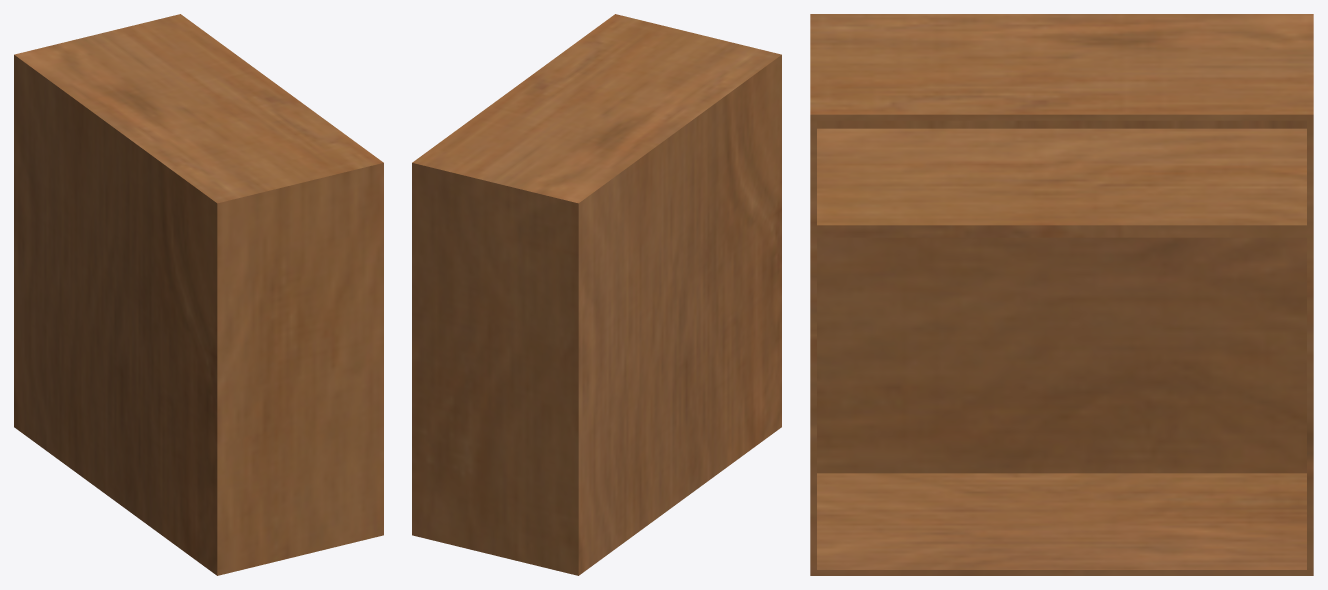
The model's file is nightstand_2.FBX.
The picture shows the model from 3 angles, left to right: view 1: azimuth 30°, elevation 25°; view 2: azimuth 150°, elevation 25°; view 3: azimuth 270°, elevation 25°; orthographic projection. The views are drawn at different scales.
Visible parts, largest first — view 1: nightstand_2; view 2: nightstand_2; view 3: nightstand_2.
Boxes of the visible parts, bbox=[...] form: nightstand_2: bbox=[14, 14, 383, 575]; nightstand_2: bbox=[412, 14, 781, 575]; nightstand_2: bbox=[810, 14, 1313, 575].
Bounding box in the file's own units: 12.74 × 27.23 × 26.93.
